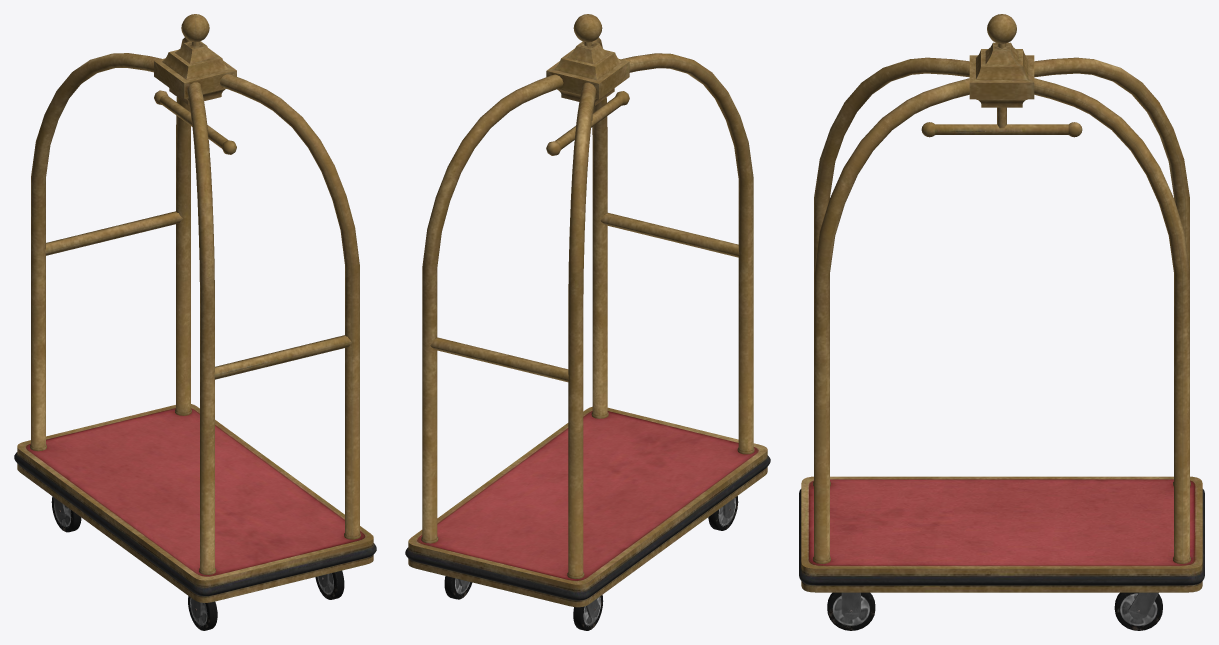
Rendered from trolley.glb.
The picture shows the model from 3 angles, left to right: view 1: azimuth 30°, elevation 25°; view 2: azimuth 150°, elevation 25°; view 3: azimuth 270°, elevation 25°; orthographic projection. The views are drawn at different scales.
Visible parts, largest first — view 1: trolley; view 2: trolley; view 3: trolley.
Boxes of the visible parts, x1,y1,x2,y2 form: trolley: [14, 14, 376, 630]; trolley: [405, 14, 770, 630]; trolley: [799, 14, 1204, 630].
Bounding box in the file's own units: 0.6428 × 1.85 × 1.17.
1 material, 1 textured.
